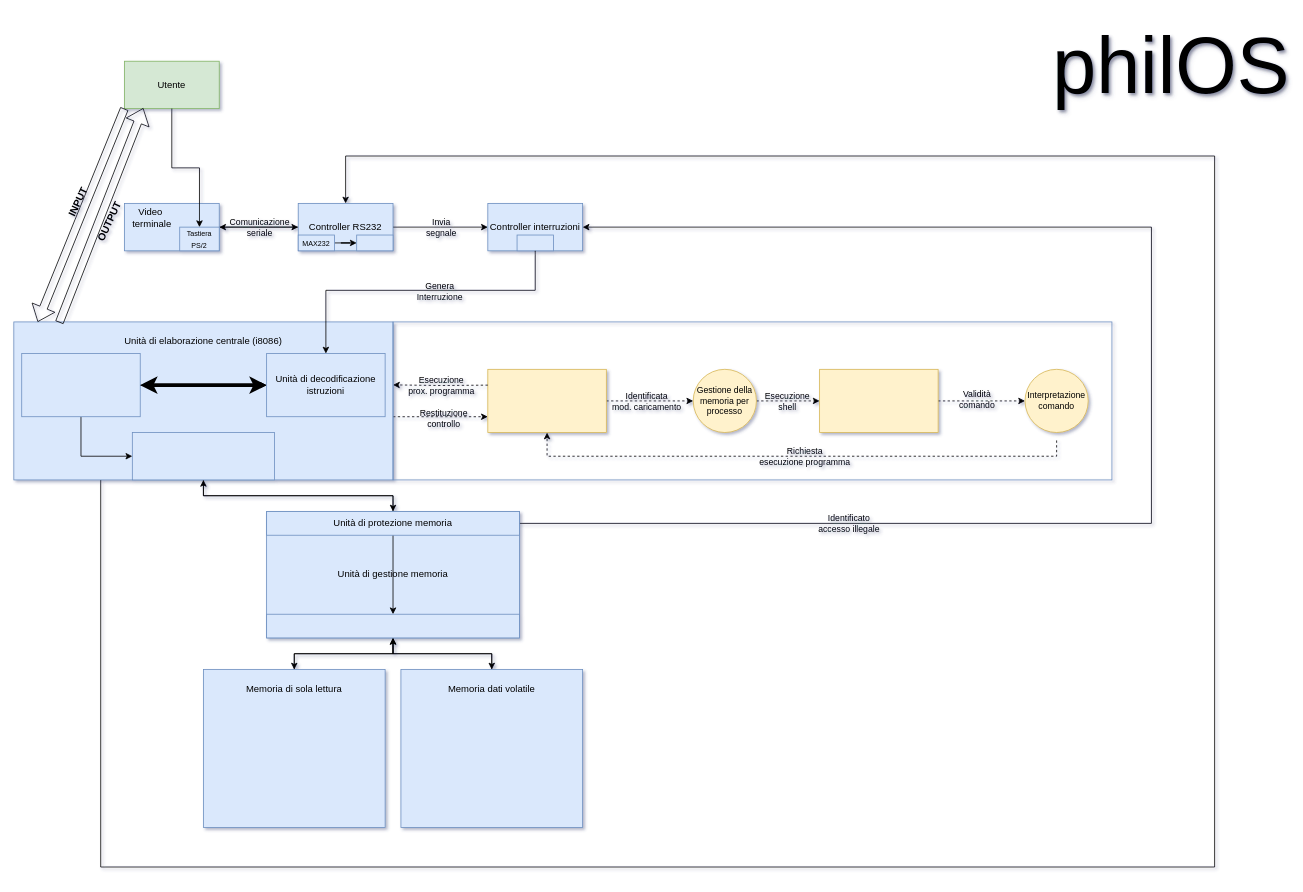
This 1303x892 diagram has some shape labels left out. Each missing label, with the centre of its shape:
i8259: the point at 534,242
Kernel: the point at 546,401
Shell: the point at 878,401
Unità di decodificazione indirizzi: the point at 392,625
Unità di interfaccia al bus: the point at 203,456
Unità logico-aritmetica: the point at 80,385
USART: the point at 374,242
